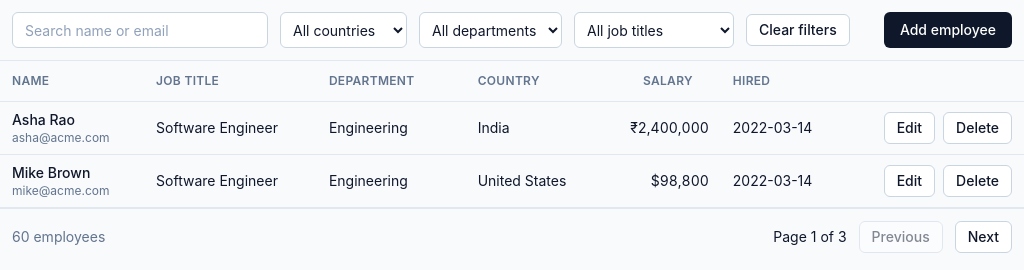
EmployeesPage › filters › says so when nothing matches
The image size is (1024, 270).
Step 1. Select "Brazil" in the dropdown named "country" → [344, 30], box x1=280 y1=12 x2=407 y2=48
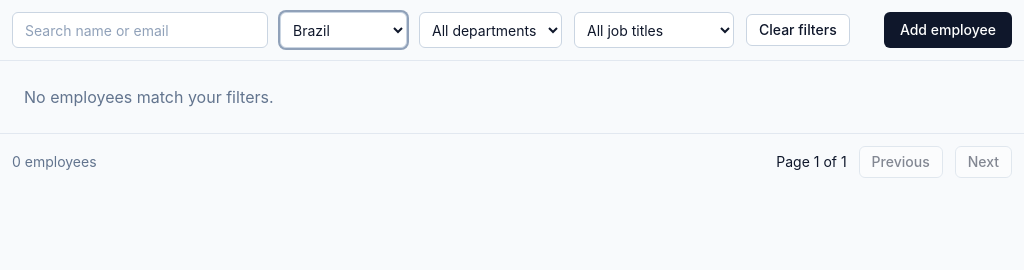
Check: the text "No employees match your filters." is shown, box x1=24 y1=87 x2=274 y2=107
